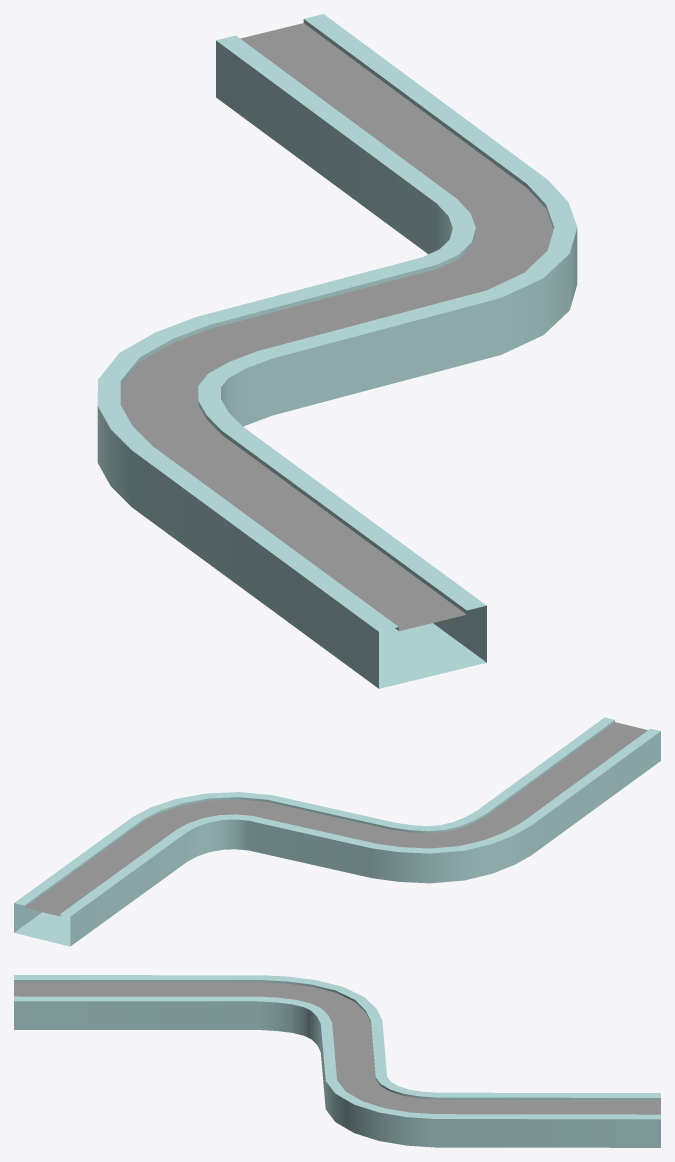
The model's file is curve_right#1.fbx.
The picture shows the model from 3 angles, top to bottom: view 1: azimuth 30°, elevation 25°; view 2: azimuth 150°, elevation 25°; view 3: azimuth 270°, elevation 25°; orthographic projection. The views are drawn at different scales.
Parts seen in each view (by area): view 1: Cube.055; view 2: Cube.055; view 3: Cube.055.
Boxes of the visible parts, left/top/right/bottom form: Cube.055: left=97, top=14, right=577, bottom=688; Cube.055: left=14, top=717, right=660, bottom=946; Cube.055: left=14, top=975, right=660, bottom=1147.
Size of the model in its own units: 1115 by 103 by 2113.
